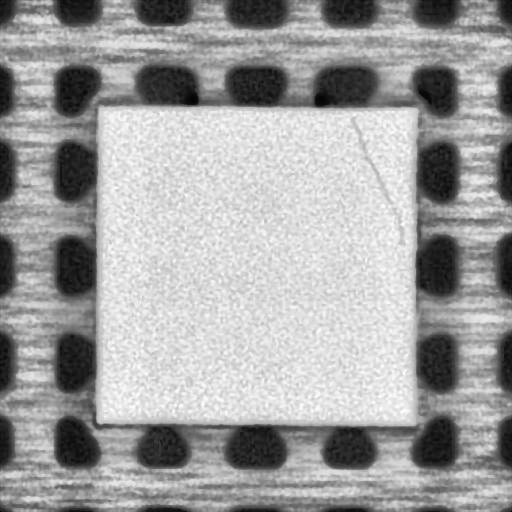DIE_CRACK: (346, 113, 402, 242)
